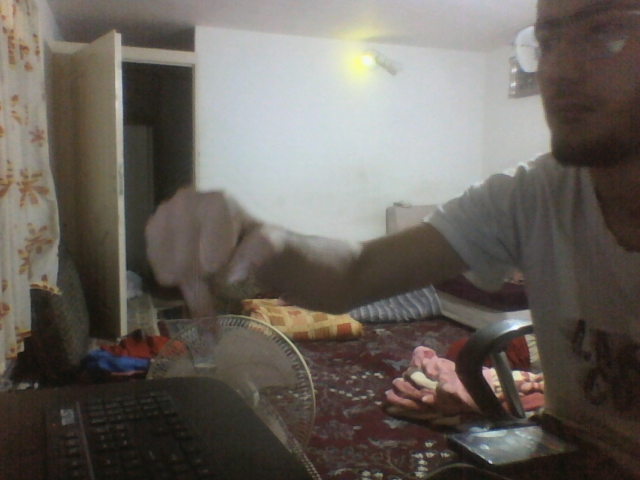fuck: (145, 189, 276, 346)
